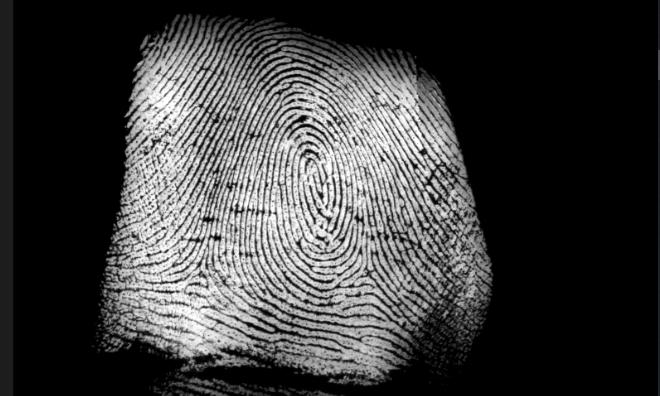nucelo: (296, 144, 332, 215)
verticilo: (352, 255, 383, 289), (184, 259, 213, 292)
